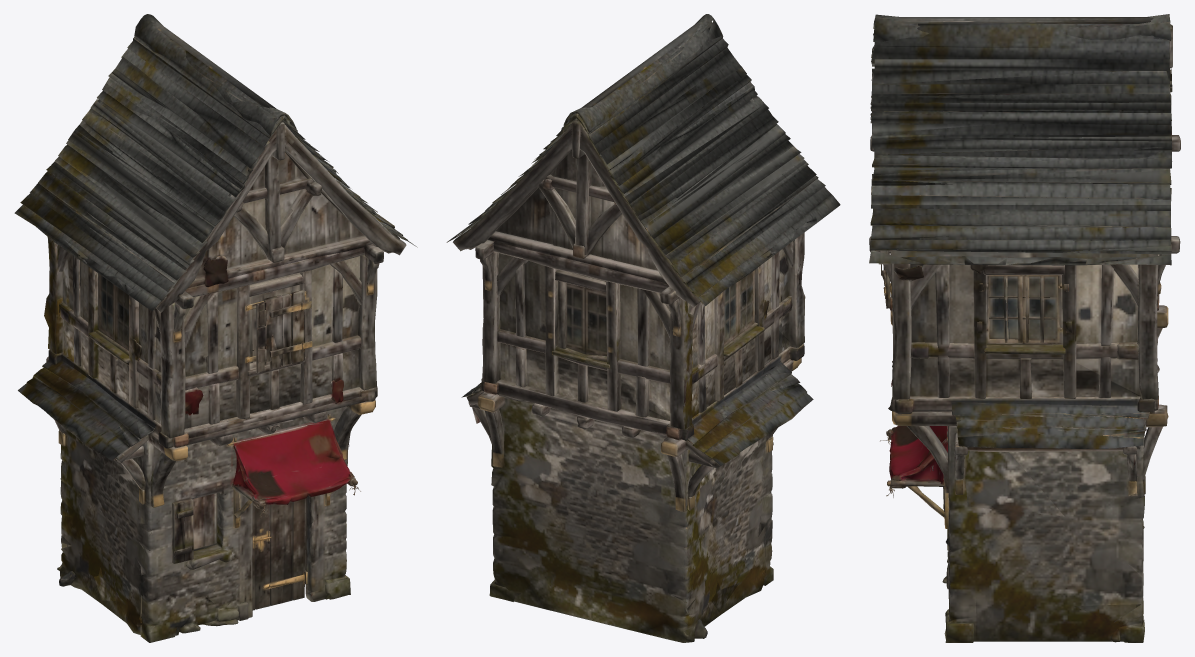
The model's file is vil-house-c_optimized.glb.
3 renders of one model, left to right at view 1: azimuth 30°, elevation 25°; view 2: azimuth 150°, elevation 25°; view 3: azimuth 270°, elevation 25°, orthographic. The views are drawn at different scales.
Visible parts, largest first — view 1: Mesh_0; view 2: Mesh_0; view 3: Mesh_0.
Part boxes in pixels (x1,y1,x2,y2): Mesh_0: [14, 14, 417, 642]; Mesh_0: [446, 14, 840, 642]; Mesh_0: [869, 14, 1180, 642].
Bounding box in the file's own units: 0.5127 × 0.9512 × 0.4673.
1 material, 1 textured.
